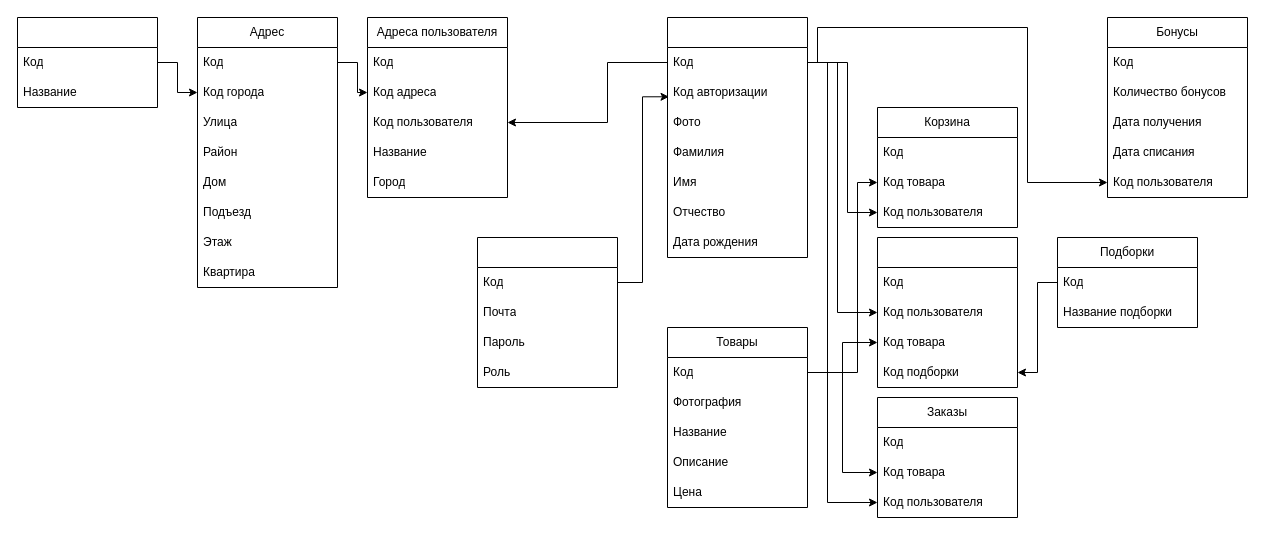
The diagram is 1265 pixels wide and 535 high, and some of its shapes have lost their labels. Here are the shapes that lost their labels. From the top down, the box of each, then its label:
(16, 16, 158, 108): Города
(666, 16, 808, 258): Пользователь
(476, 236, 618, 388): Авторизация
(876, 236, 1018, 388): Избранное
